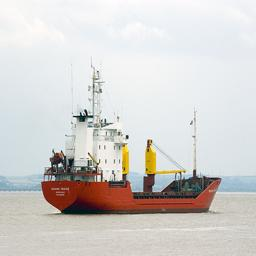boat: (128, 70, 256, 256)
